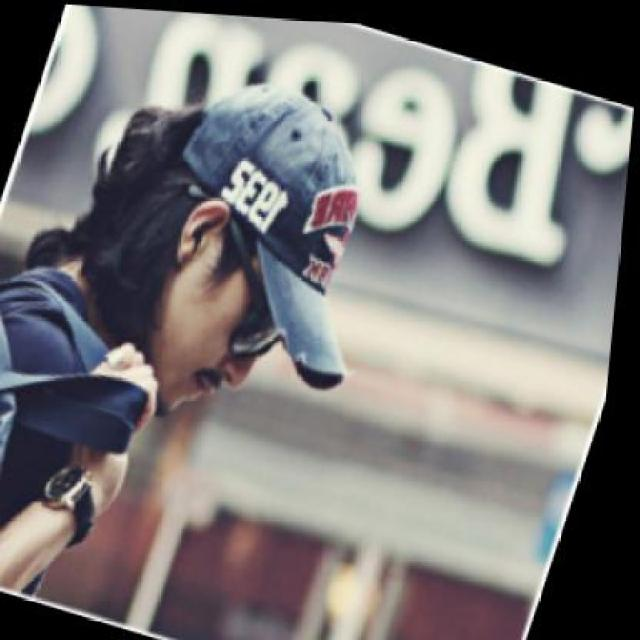hat: (127, 61, 430, 394)
